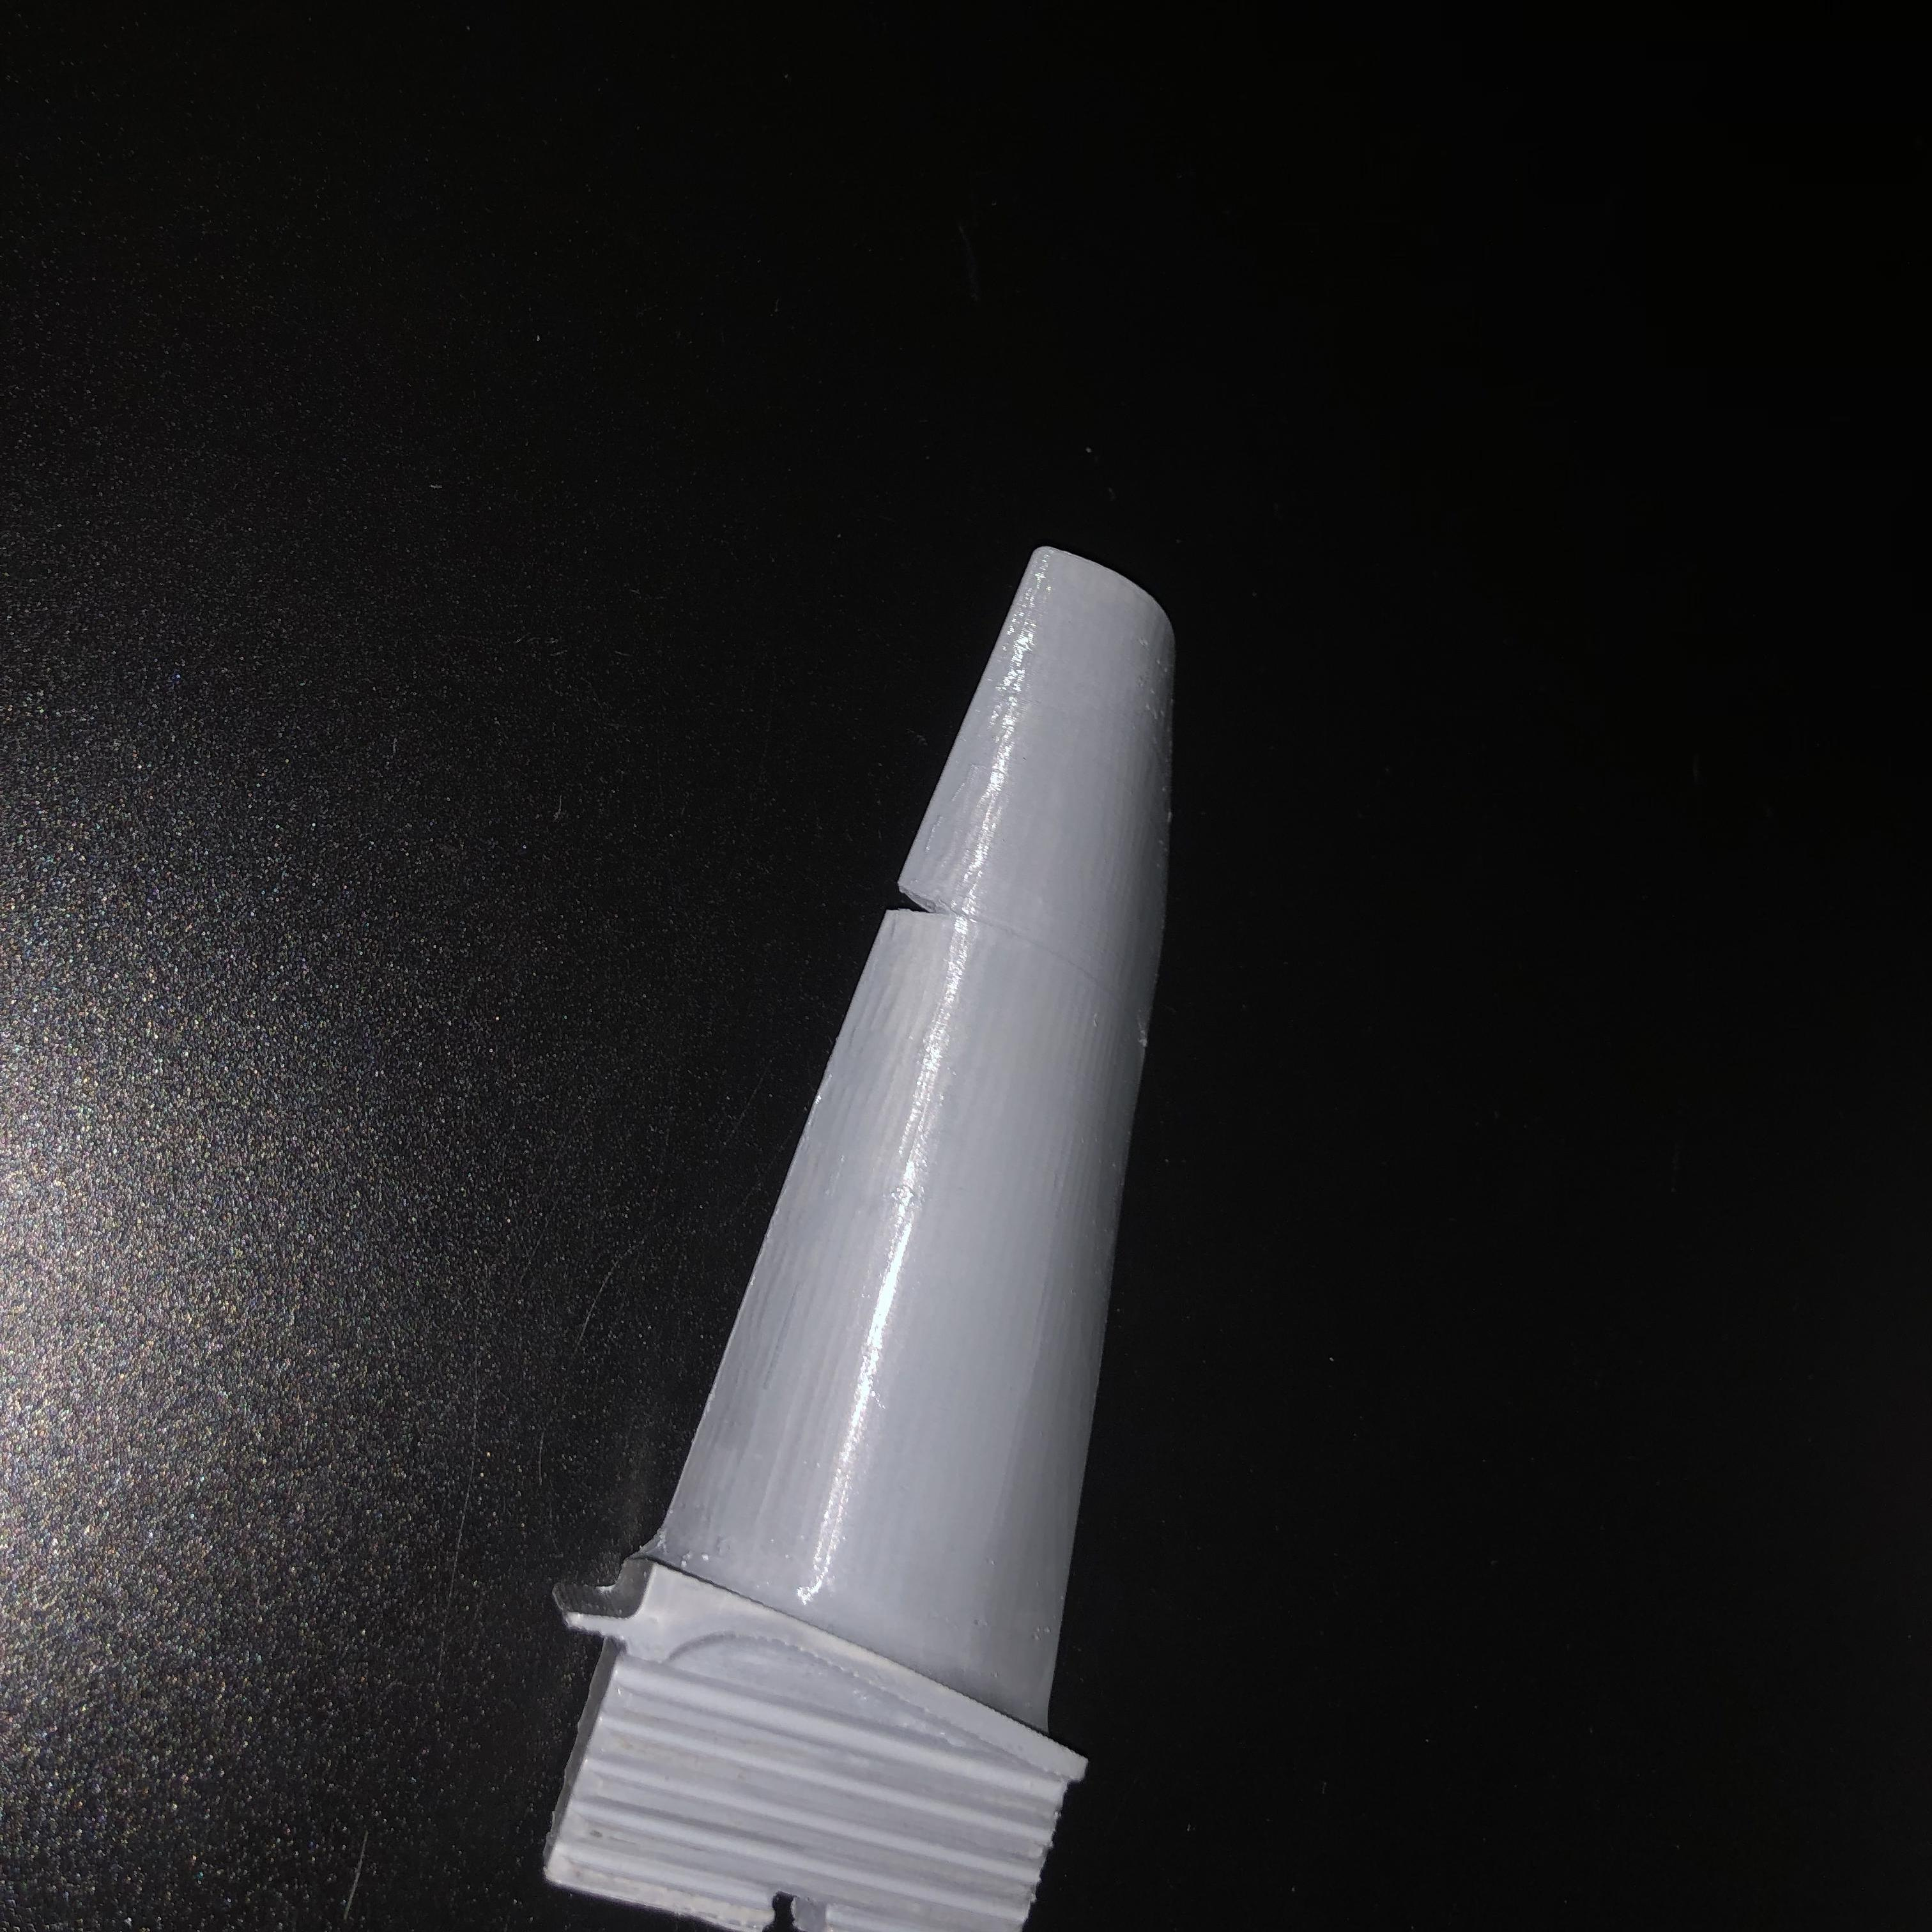groove: (886, 879, 971, 920)
